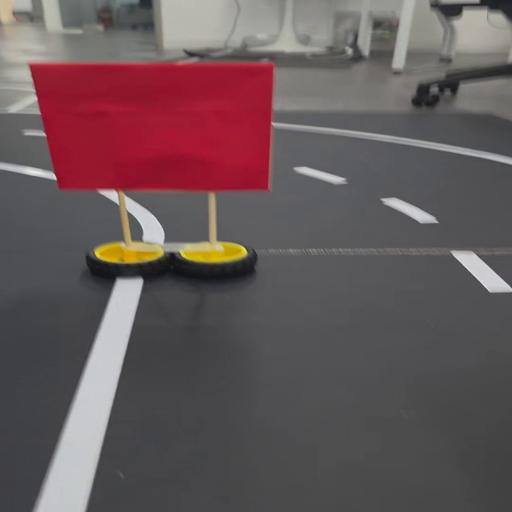Sign_A: (26, 59, 300, 297)
